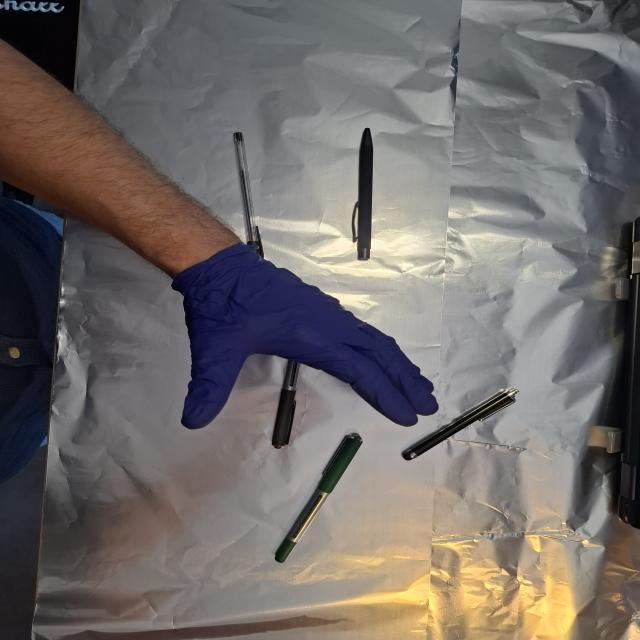glove_on: (170, 242, 444, 432)
